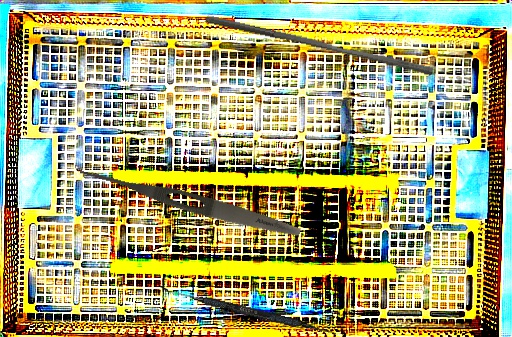Dressing Forceps: (77, 162, 303, 243)
Pusher: (201, 14, 437, 77)
Spatula Surgical: (158, 285, 338, 337)
